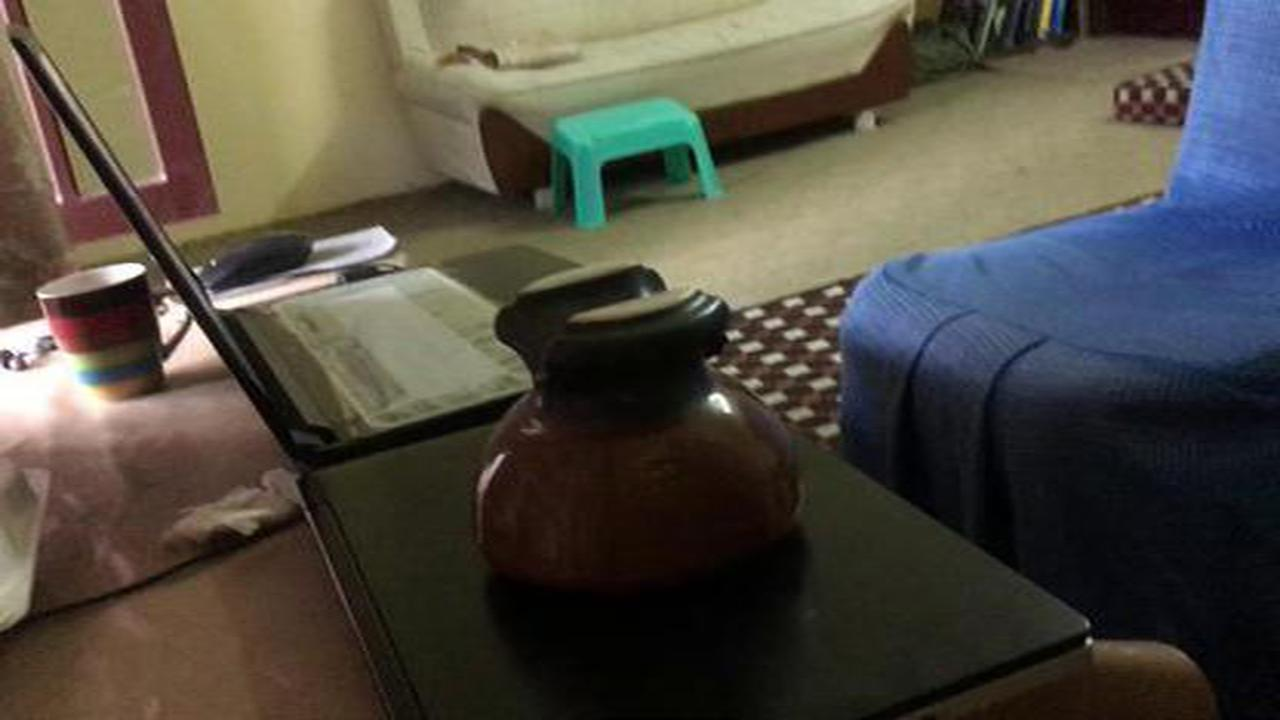insulator_pin: (459, 250, 816, 610)
